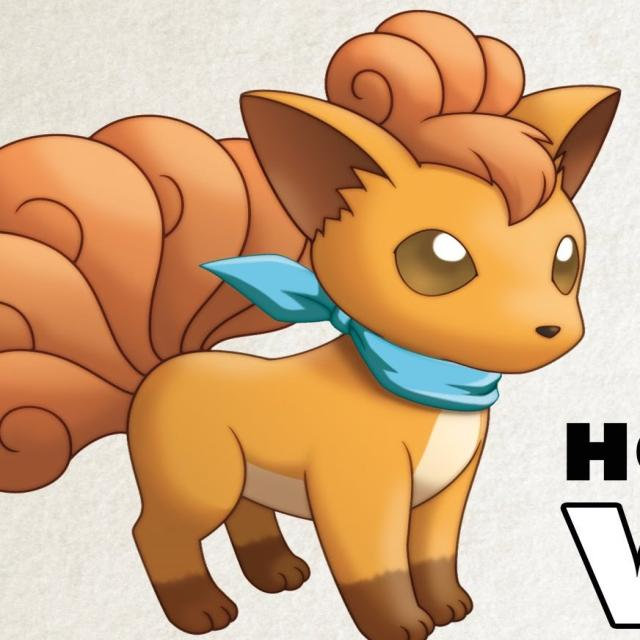Vulpix: (134, 88, 588, 619)
